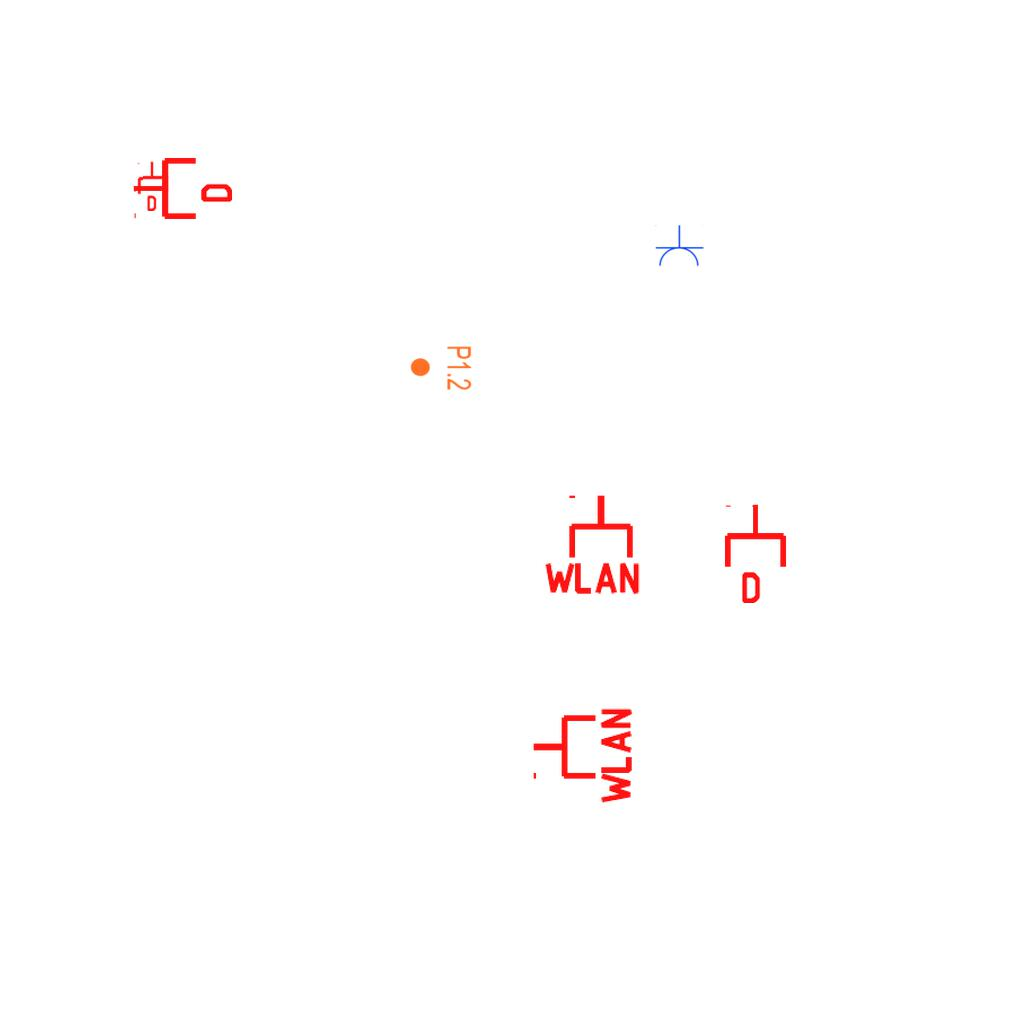Datenanschluss_einfach: (132, 154, 232, 223), (721, 503, 790, 603), (134, 160, 172, 212)
Downlight_LED_Einbauleuchten_Flur: (409, 345, 473, 391)
Schukosteckdose_einfach: (654, 225, 704, 268)
WLAN: (540, 491, 644, 596), (529, 704, 634, 808)
